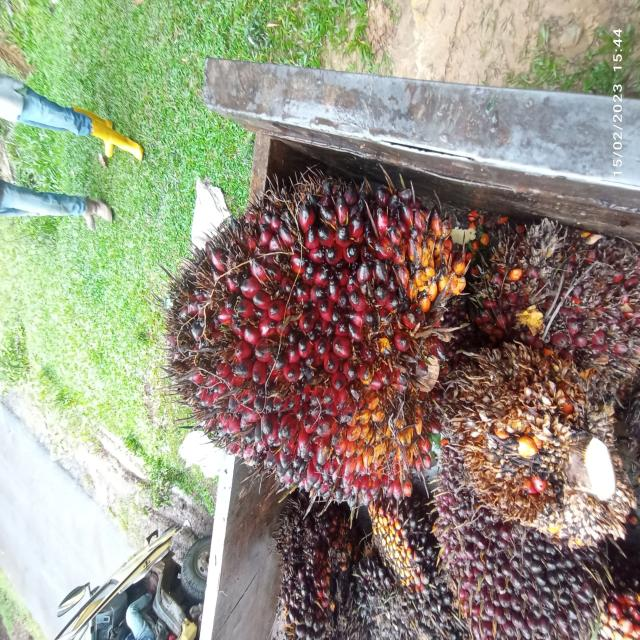fraksi 00: (420, 479, 635, 640)
fraksi 1: (463, 210, 640, 343)
fraksi 3: (141, 162, 473, 524)
fraksi 4: (409, 328, 640, 523)
